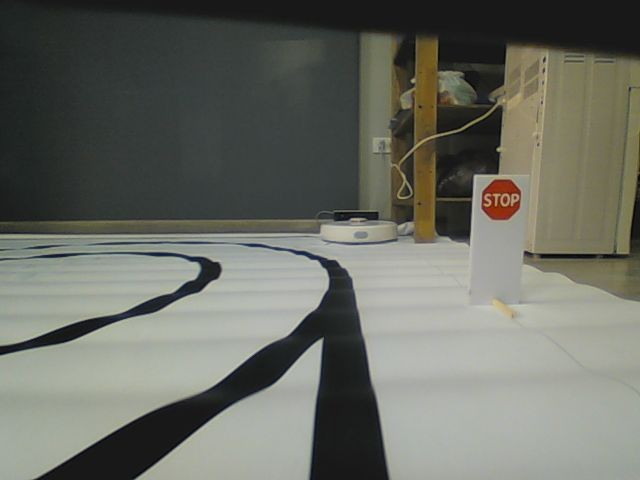Stop: (480, 180, 520, 221)
